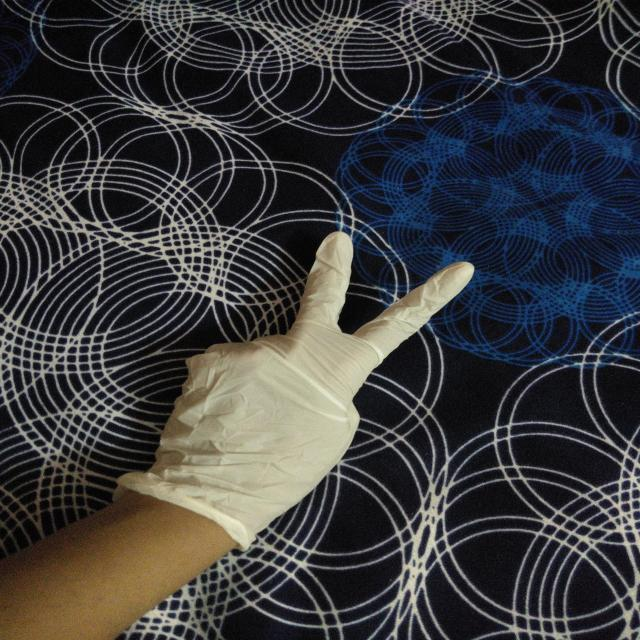glove_hand: (98, 219, 484, 546)
